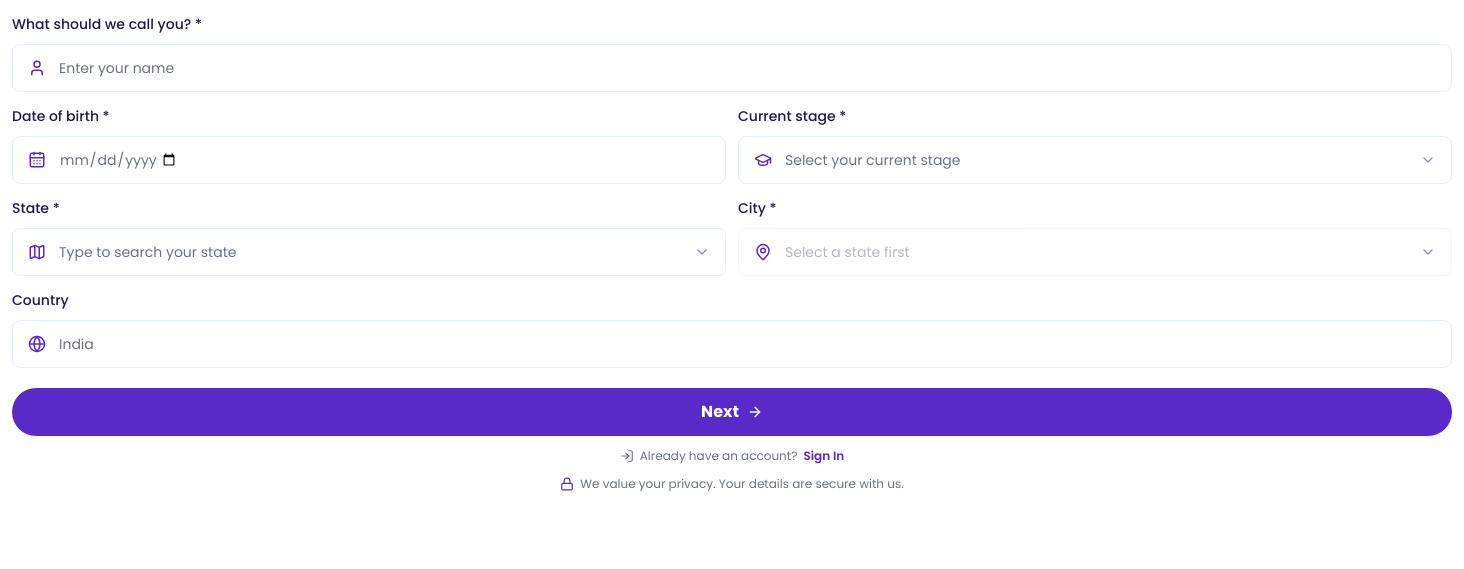
it: ProfileFieldsForm › blocks submission and shows field errors when required fields are missing
Click the button "Next" at (732, 412), box 12,388 -> 1452,436
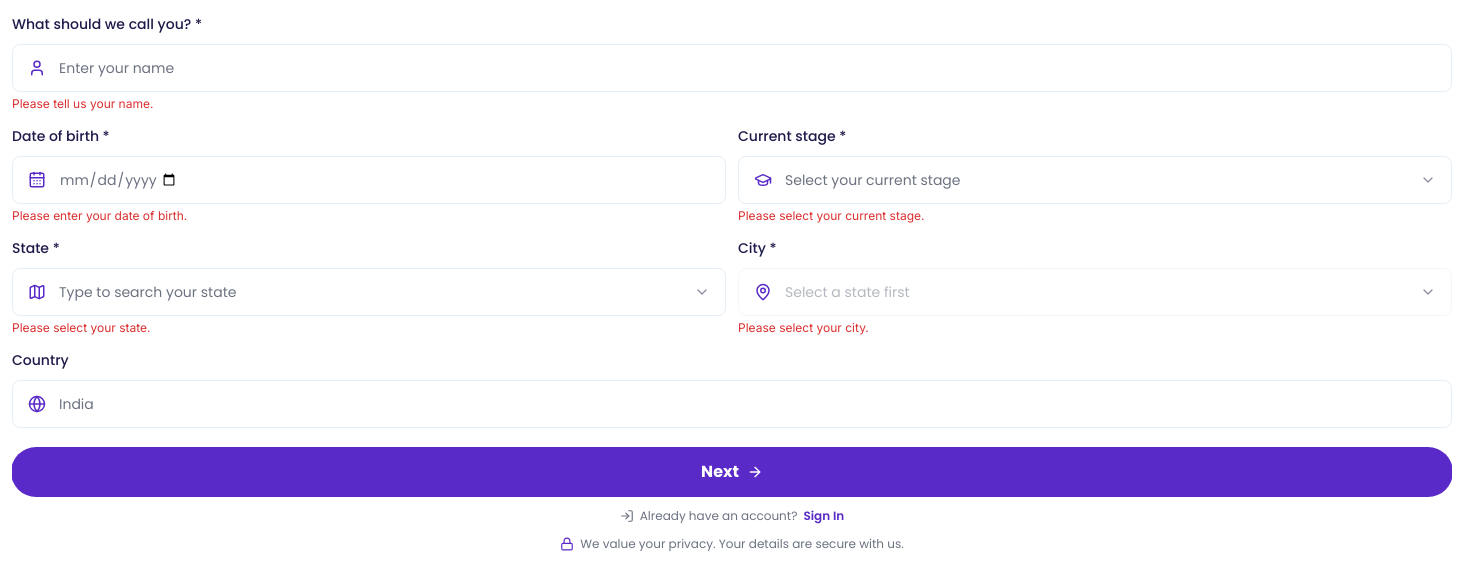
Check: the text "Please tell us your name." is shown, box 12,96 -> 153,111
Check: the text "Please enter your date of birth." is shown, box 12,208 -> 187,223
Check: the text "Please select your city." is shown, box 738,320 -> 869,335
